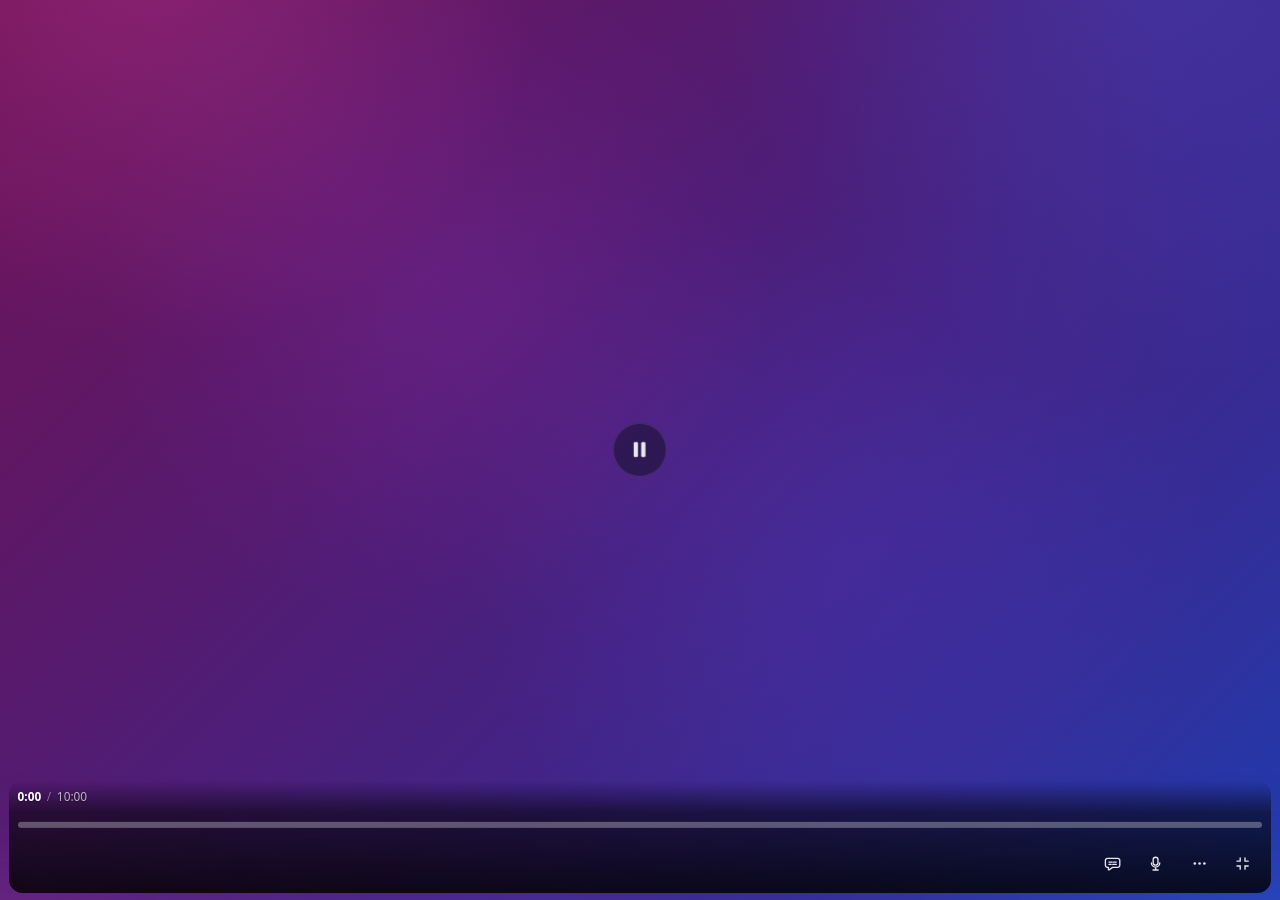
Test: ElvernPlayerOverlay controls visibility › opening More then tapping player surface closes More without toggling playback
The width and height of the screenshot is (1280, 900).
Click the button named "More options" at (1199, 864), box [1179, 844, 1219, 884]
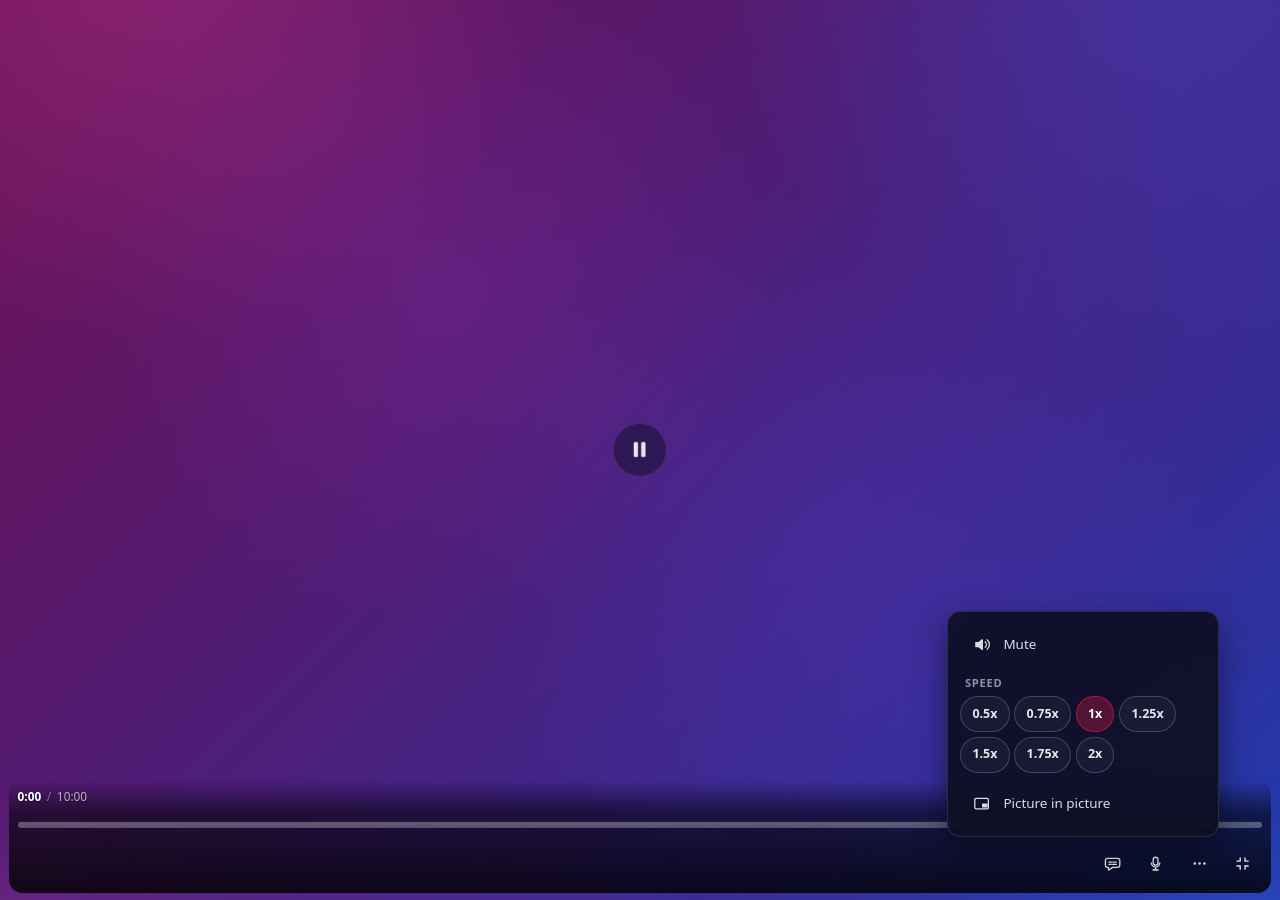
expect the menu is shown: met, box [947, 611, 1219, 837]
Click the button named "Hide playback controls" at (77, 450), box [0, 0, 1279, 899]
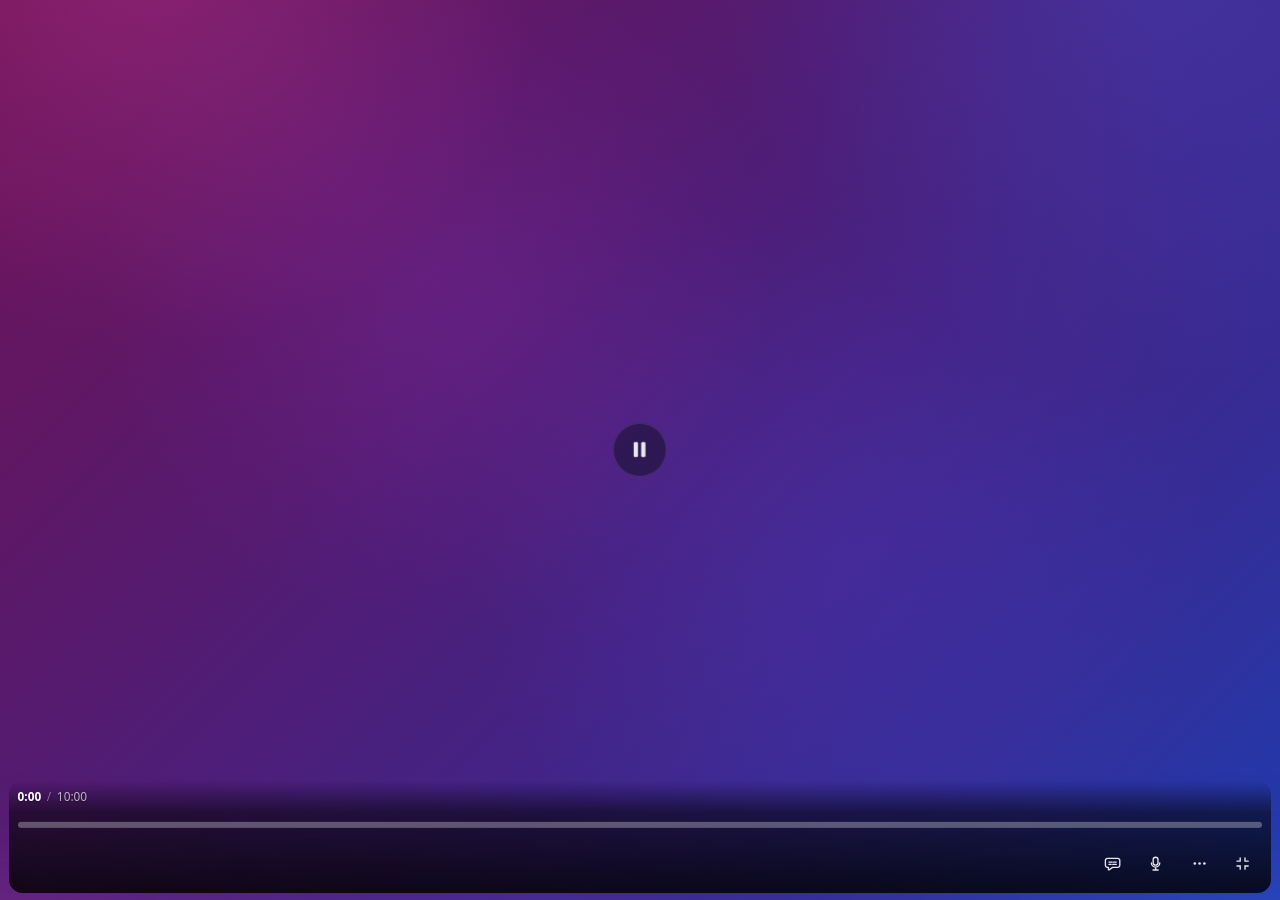
expect the menu is gone: met
